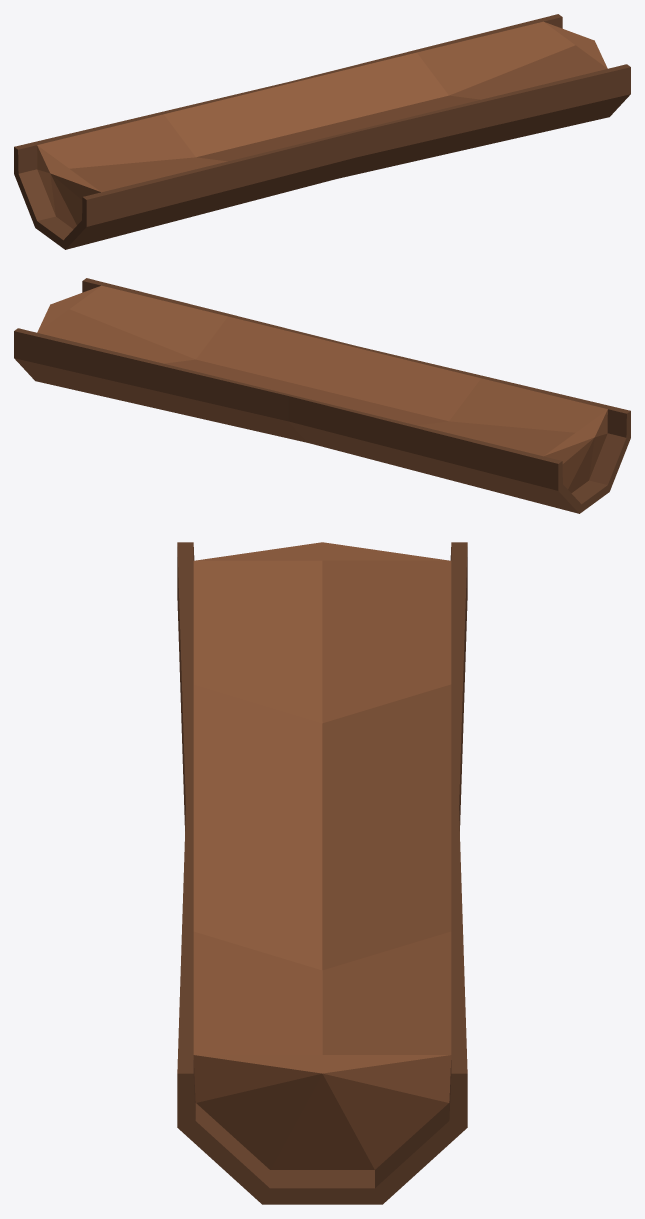
Rendered from Log_2_Brown.fbx.
3 views of the same model, one above another, from view 1: azimuth 30°, elevation 25°; view 2: azimuth 150°, elevation 25°; view 3: azimuth 270°, elevation 25° (orthographic). The views are drawn at different scales.
Visible parts, largest first — view 1: Log_2_Brown; view 2: Log_2_Brown; view 3: Log_2_Brown.
Boxes of the visible parts, x1=… form: Log_2_Brown: x1=14, y1=14, x2=630, y2=249; Log_2_Brown: x1=14, y1=278, x2=630, y2=513; Log_2_Brown: x1=177, y1=542, x2=467, y2=1204.
Size of the model in its own units: 200 by 23.02 by 46.18.
